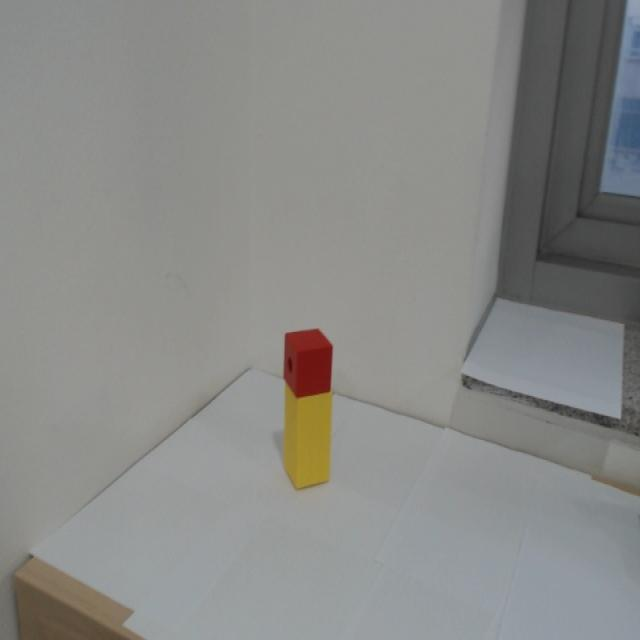cube: (276, 318, 337, 397)
